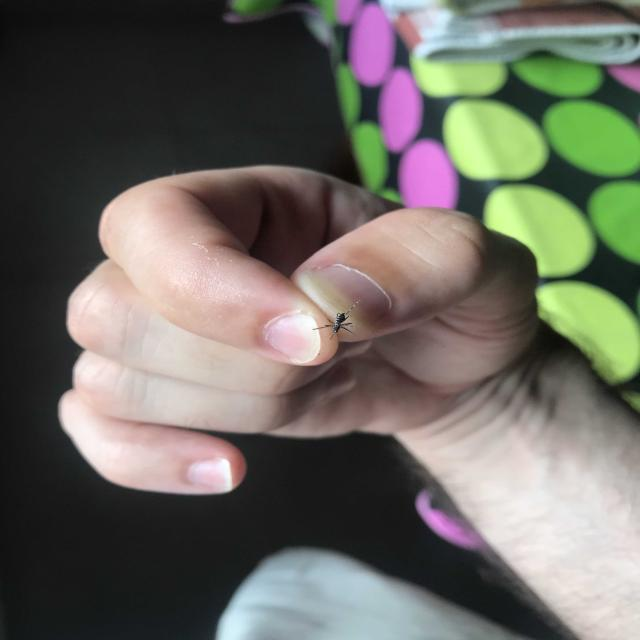albopictus: (298, 290, 366, 350)
